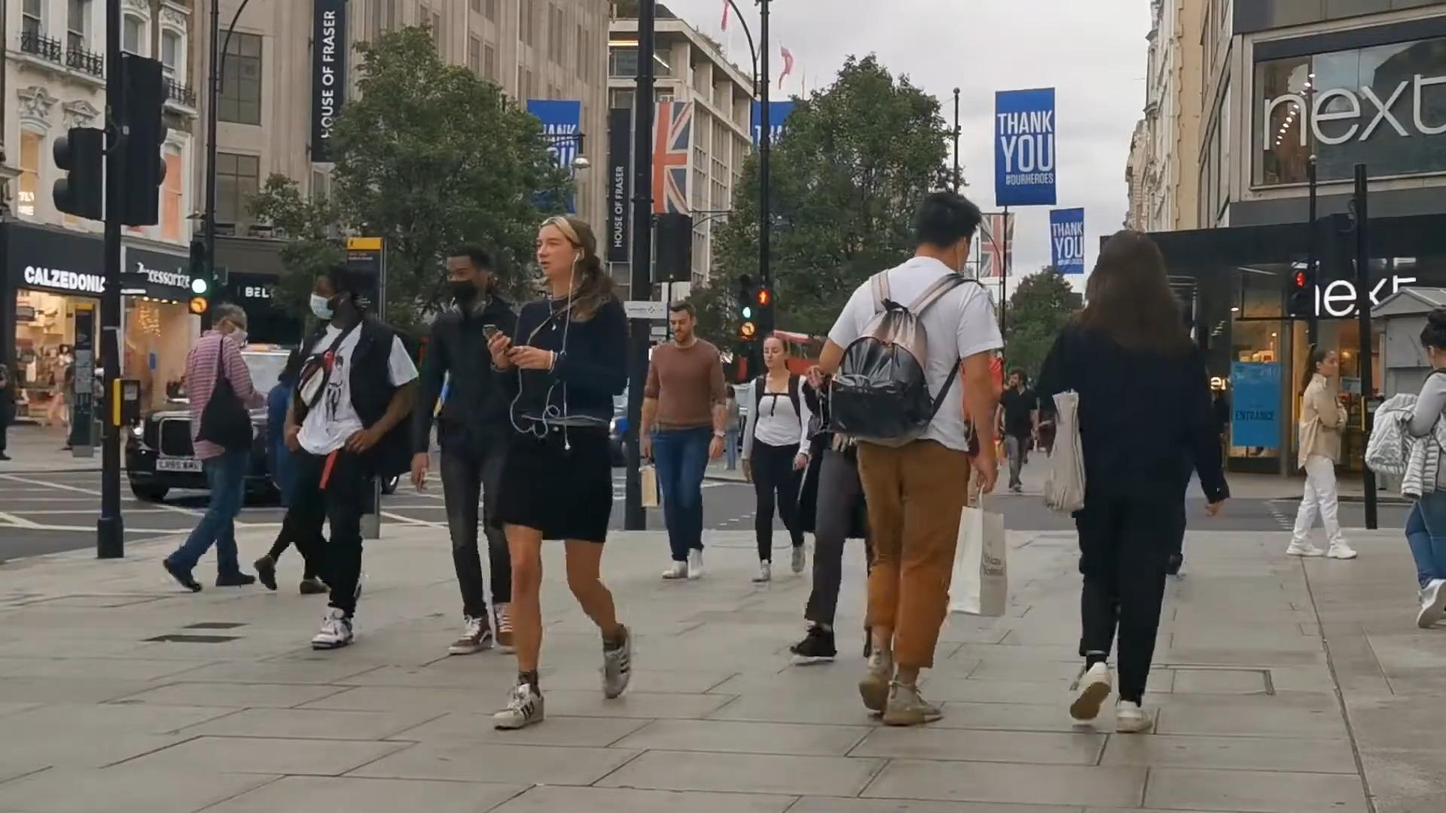no-helmet: (1085, 228, 1179, 316), (914, 190, 983, 269), (534, 214, 600, 279), (309, 262, 378, 322), (443, 242, 496, 304), (1418, 308, 1446, 370), (210, 304, 250, 347), (667, 301, 698, 343), (1303, 342, 1339, 378), (763, 335, 792, 370), (1008, 368, 1028, 391)
